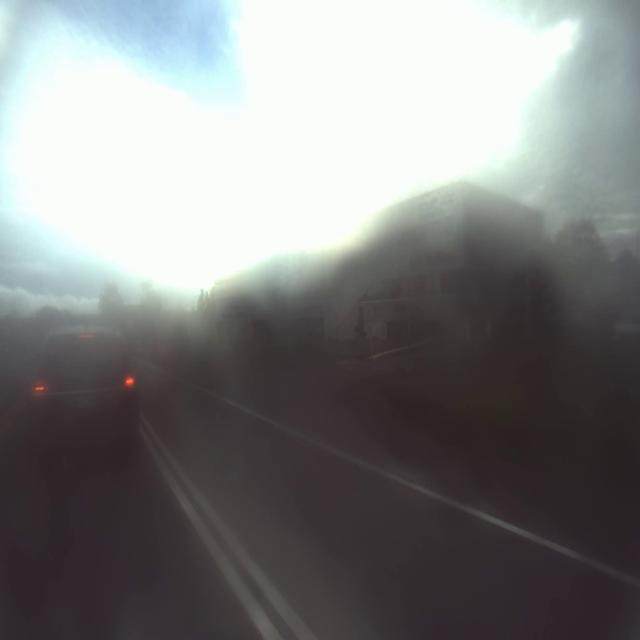car: (29, 308, 140, 455)
